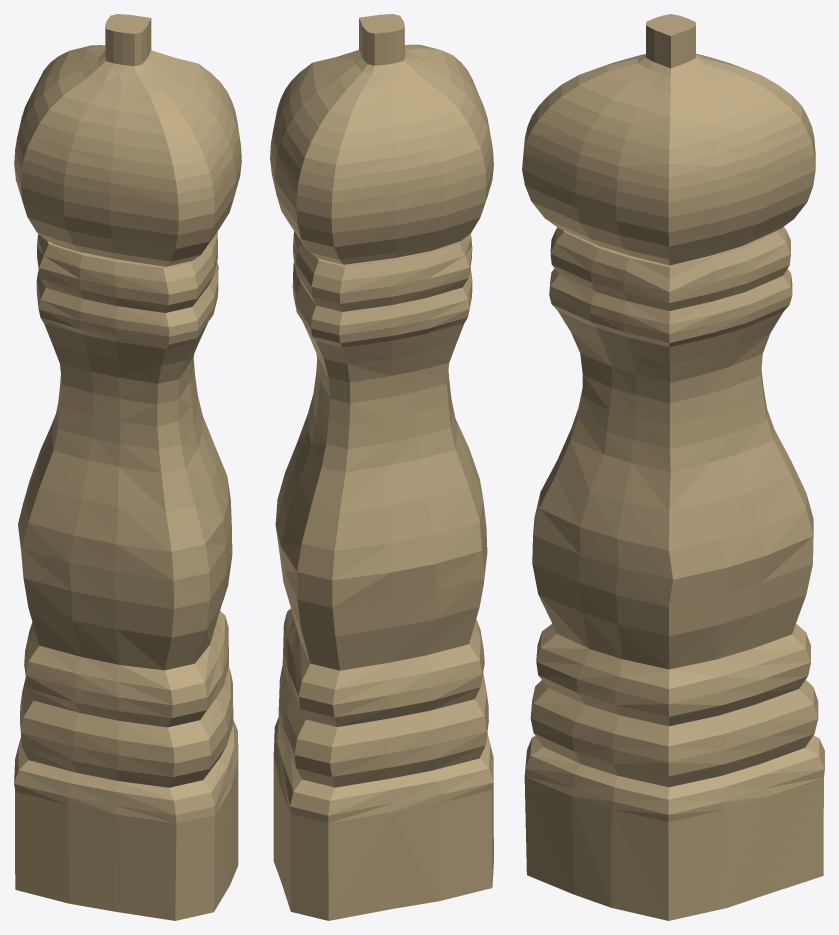
Rendered from pote de pimienta.fbx.
3 renders of one model, left to right at view 1: azimuth 30°, elevation 25°; view 2: azimuth 150°, elevation 25°; view 3: azimuth 270°, elevation 25°, orthographic.
Parts seen in each view (by area): view 1: Cylinder001; view 2: Cylinder001; view 3: Cylinder001.
Part boxes in pixels (bbox=[...]): Cylinder001: bbox=[14, 14, 241, 920]; Cylinder001: bbox=[270, 14, 493, 920]; Cylinder001: bbox=[522, 14, 824, 920].
Size of the model in its own units: 883 by 3195 by 1040.
